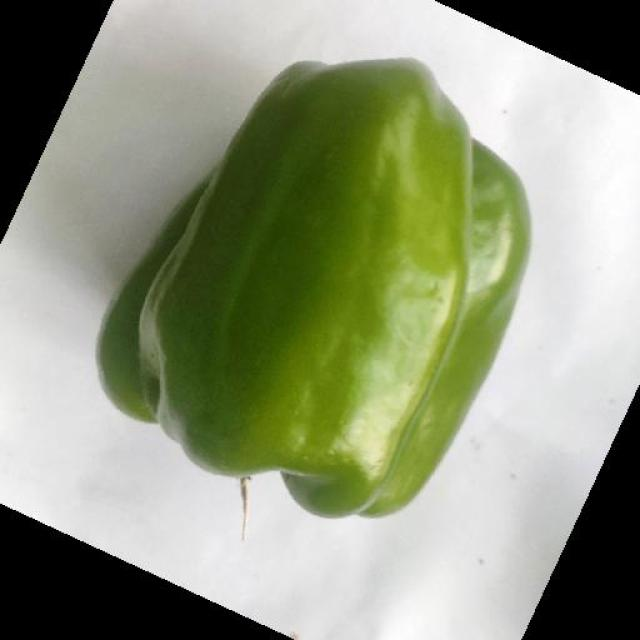Fresh_Capsicum: (162, 55, 560, 555)
